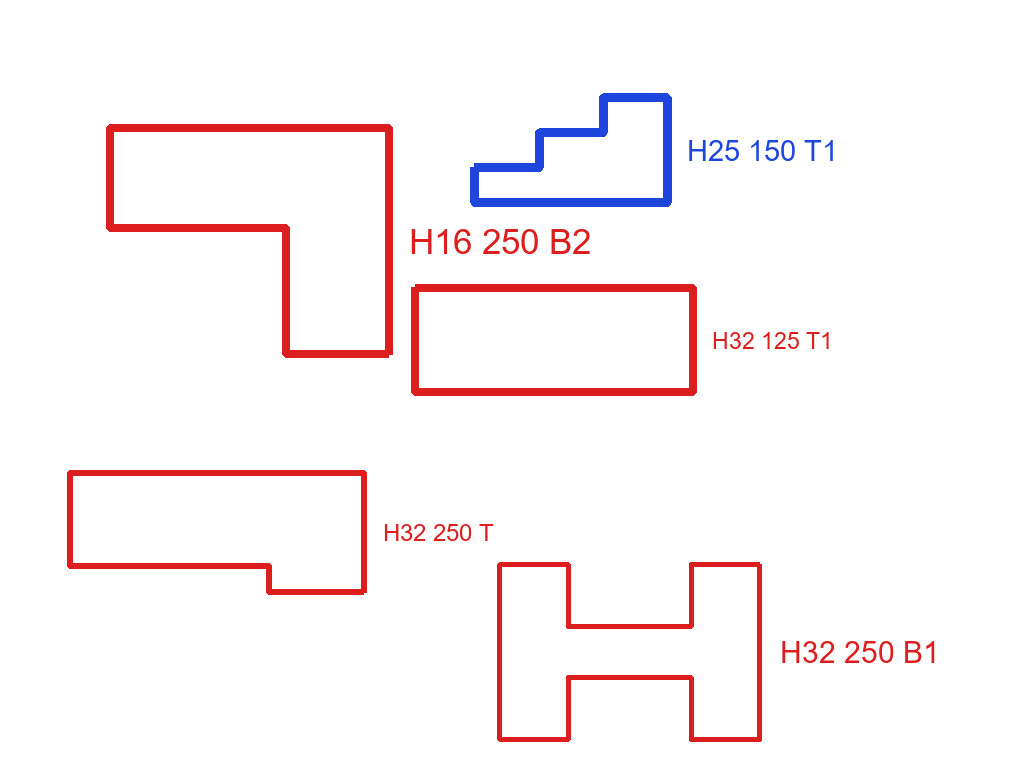shape: (105, 121, 395, 361), (495, 560, 764, 744), (65, 468, 368, 597), (410, 282, 698, 398), (468, 91, 674, 209)
text: (407, 227, 593, 256), (778, 639, 942, 665), (685, 138, 840, 163), (710, 330, 835, 351), (381, 522, 496, 543)
